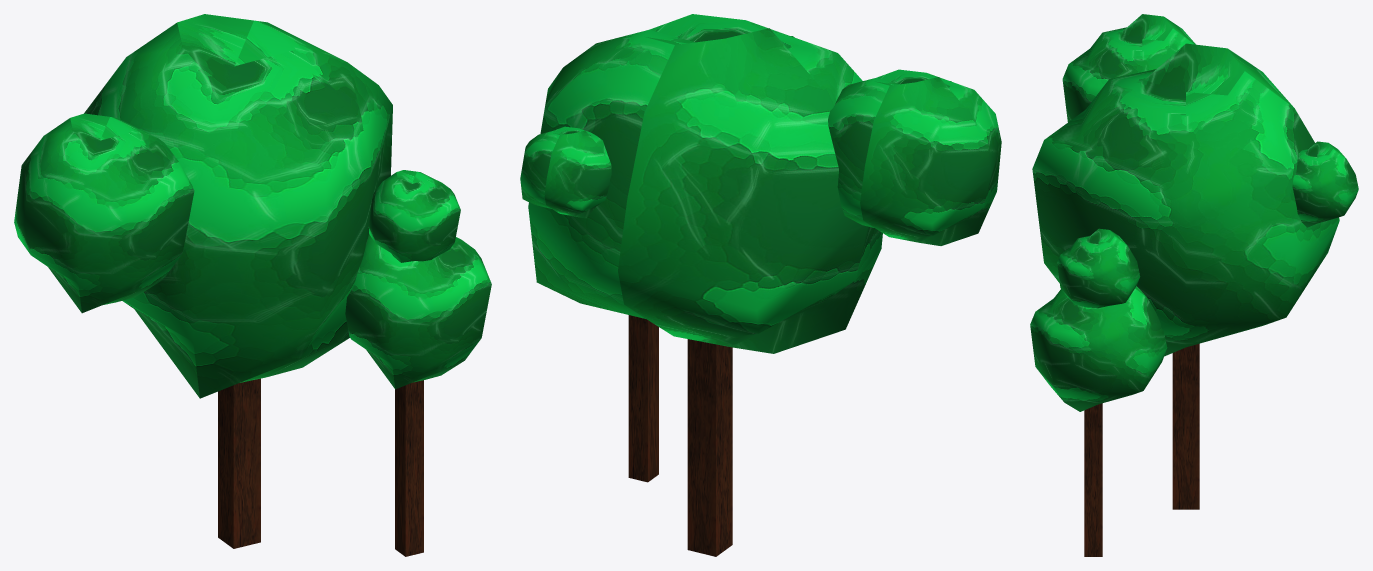
File: bush3.fbx
3 renders of one model, left to right at view 1: azimuth 30°, elevation 25°; view 2: azimuth 150°, elevation 25°; view 3: azimuth 270°, elevation 25°, orthographic. The views are drawn at different scales.
Visible parts, largest first — view 1: polymsh; view 2: polymsh; view 3: polymsh.
Boxes of the visible parts, box(x1,y1,x2,y2) form: polymsh: box(14, 14, 491, 556); polymsh: box(520, 14, 1001, 556); polymsh: box(1030, 14, 1358, 556).
Size of the model in its own units: 59.92 by 67.5 by 45.75.
